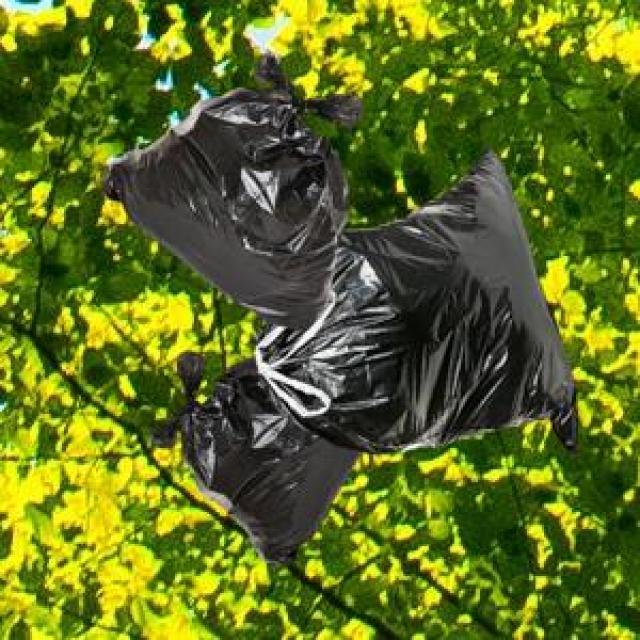Trashbag: (315, 157, 590, 461), (104, 78, 342, 325), (176, 355, 351, 571)
